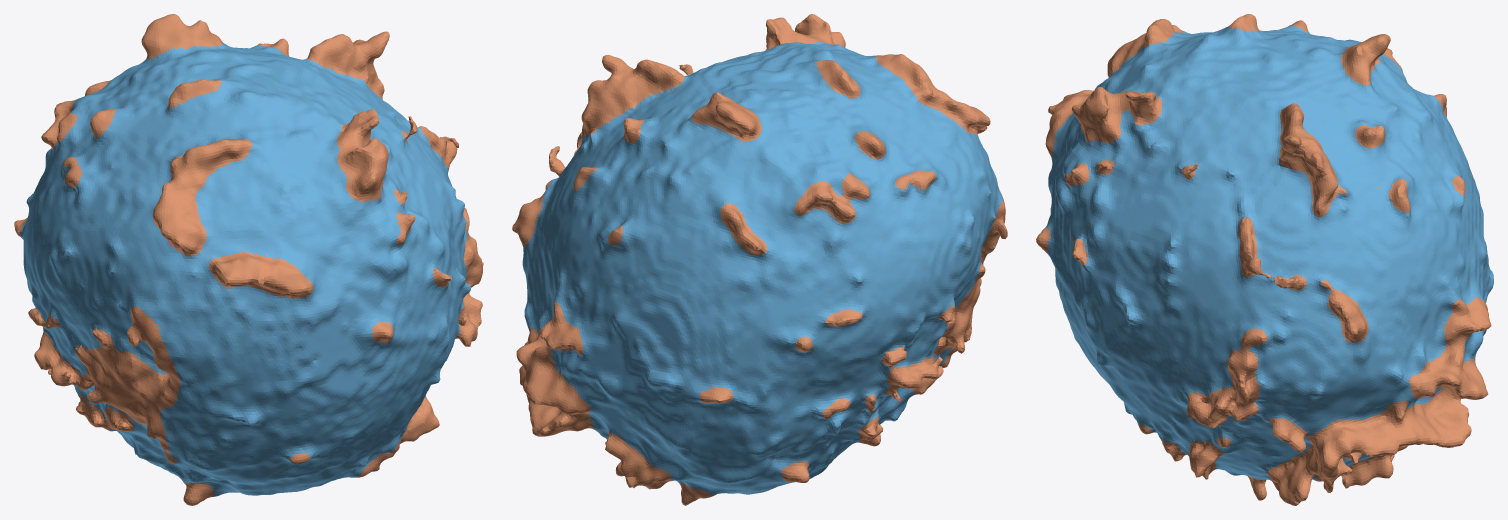
3 renders of one model, left to right at view 1: azimuth 30°, elevation 25°; view 2: azimuth 150°, elevation 25°; view 3: azimuth 270°, elevation 25°, orthographic. The views are drawn at different scales.
Size of the model in its own units: 128 by 126 by 125.
